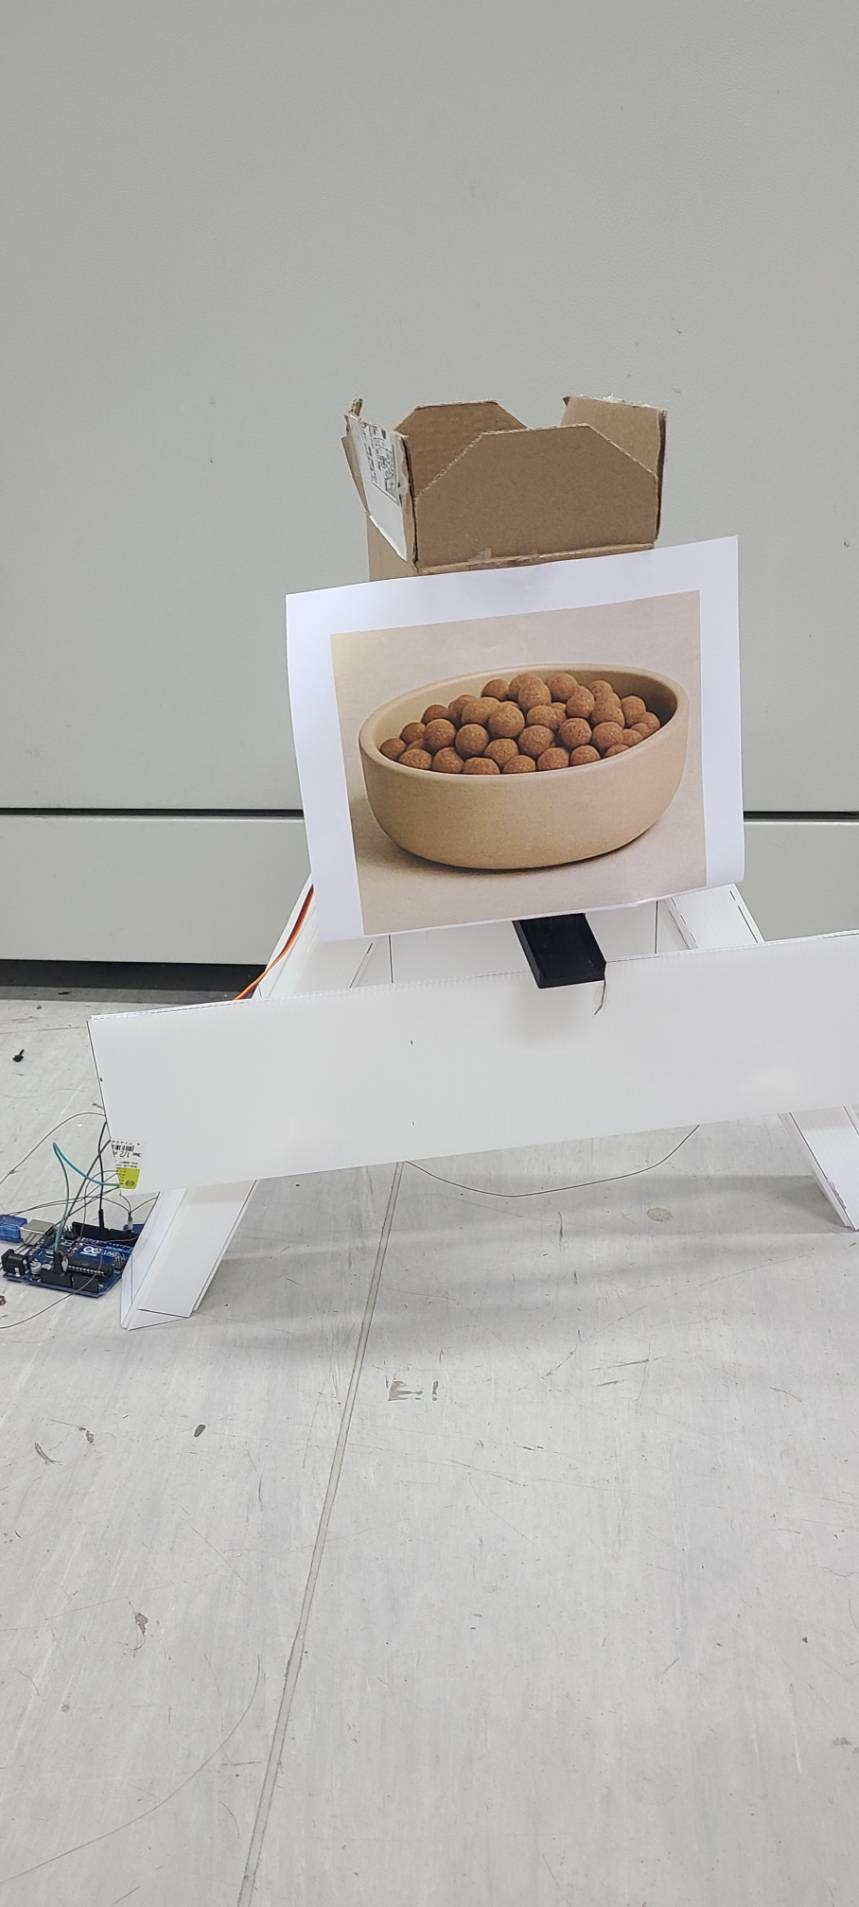machine: (367, 669, 683, 845)
